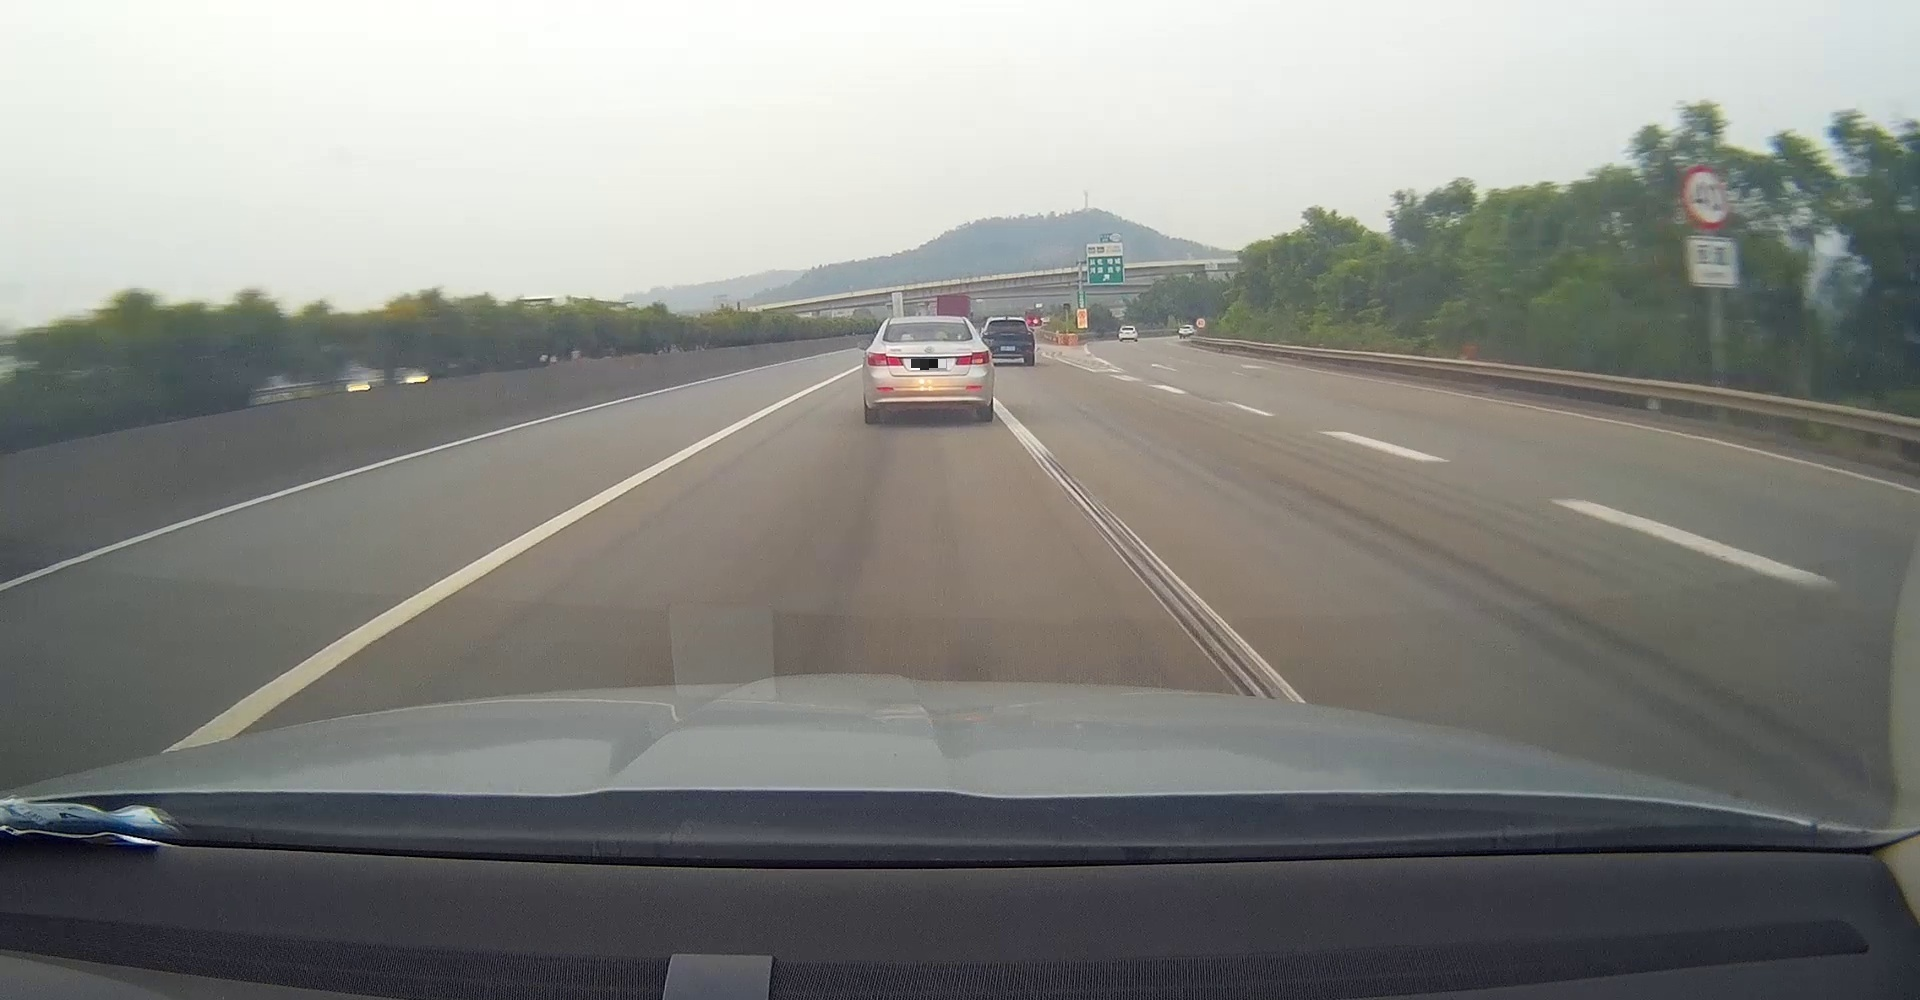L_light: (867, 352, 904, 365)
R_light: (955, 350, 990, 365)
T_light: (919, 336, 936, 340)
day-no: (863, 316, 994, 423)
plate_1: (910, 359, 946, 371)
